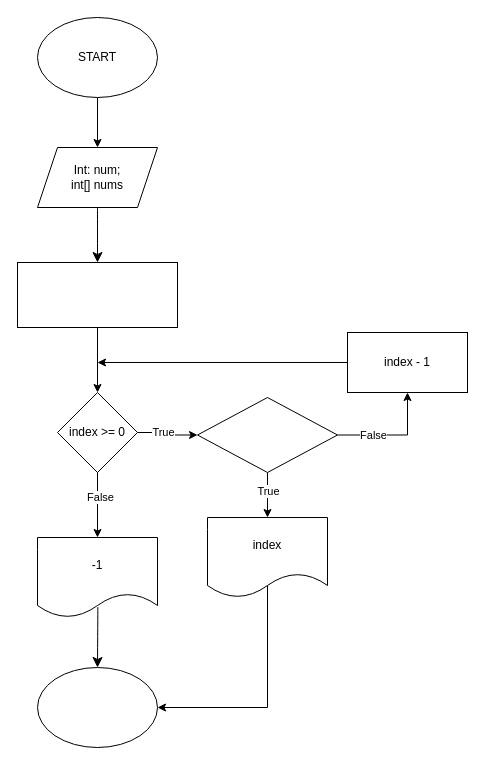
Image size: 485x765. Some labels were removed from this diagram. Here are the shapes that lost their labels. From the top down, the centre of each, then its label:
At point 97,295: "int index = nums.length - 1".
At point 267,434: "nums[index] = num".
At point 97,707: "END".
